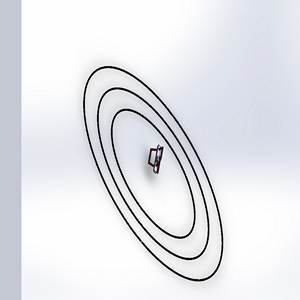circle: (70, 59, 227, 287)
submarine: (143, 144, 170, 182)
